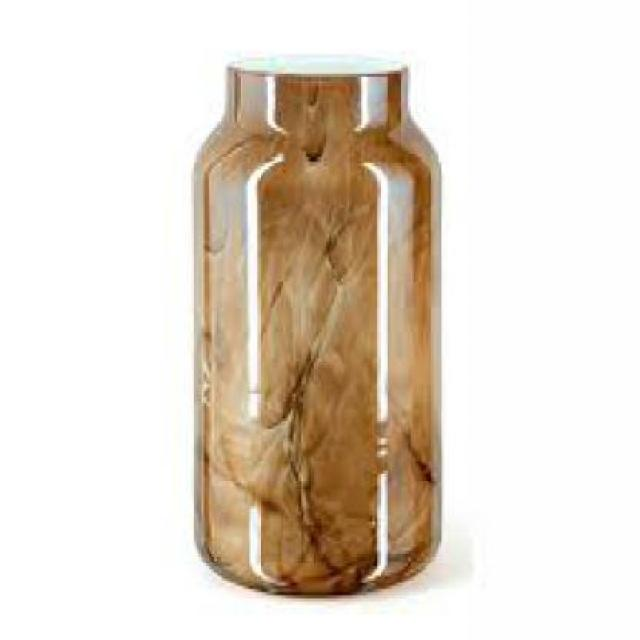kaca: (189, 54, 442, 595)
